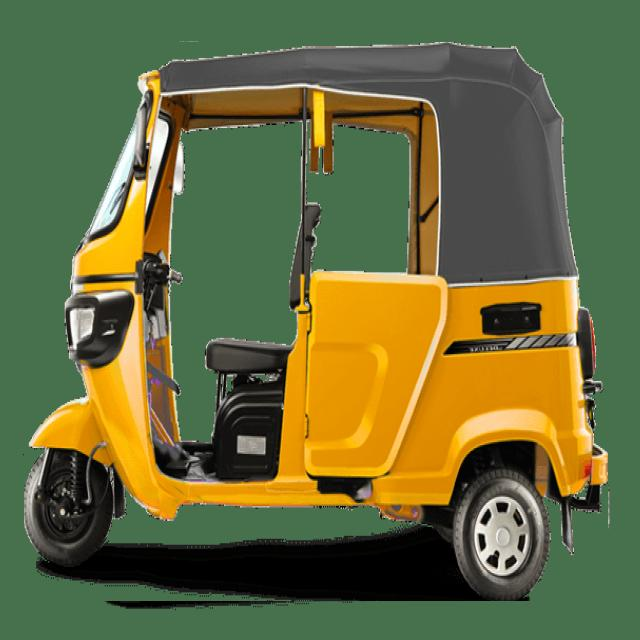autorickshaw: (25, 42, 608, 601)
